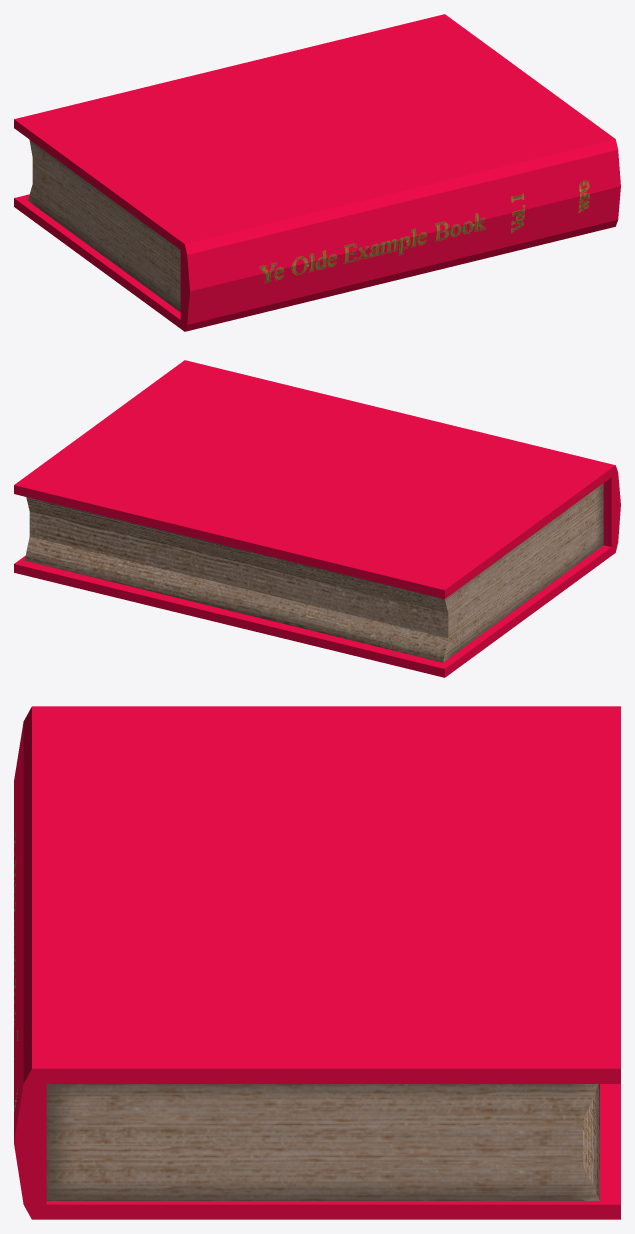
Rendered from red_book.obj.
3 renders of one model, top to bottom at view 1: azimuth 30°, elevation 25°; view 2: azimuth 150°, elevation 25°; view 3: azimuth 270°, elevation 25°, orthographic. The views are drawn at different scales.
Visible parts, largest first — view 1: Book_Cube.001; view 2: Book_Cube.001; view 3: Book_Cube.001.
Boxes of the visible parts, x1,y1,x2,y2 form: Book_Cube.001: [14, 14, 620, 331]; Book_Cube.001: [14, 360, 620, 677]; Book_Cube.001: [14, 706, 620, 1219].
Bounding box in the file's own units: 5.15 × 1 × 3.64.
